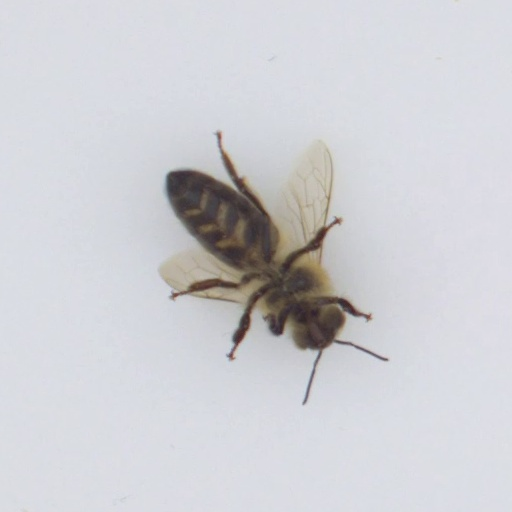Bee: (145, 149, 363, 361)
